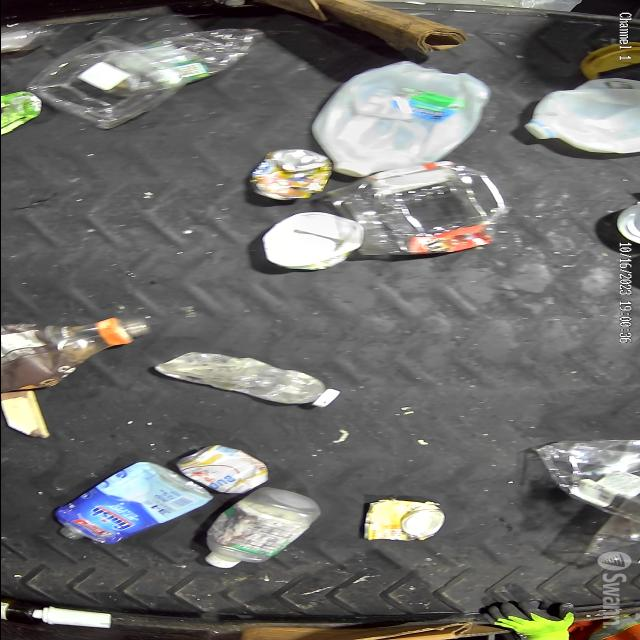can: (171, 444, 269, 494), (250, 149, 332, 201), (359, 500, 444, 542), (616, 202, 640, 244)
milk_jug: (310, 60, 490, 178), (524, 78, 640, 156)
non_white_jug: (51, 462, 211, 546)
plastic_bottle: (150, 352, 340, 408), (134, 28, 266, 88)
